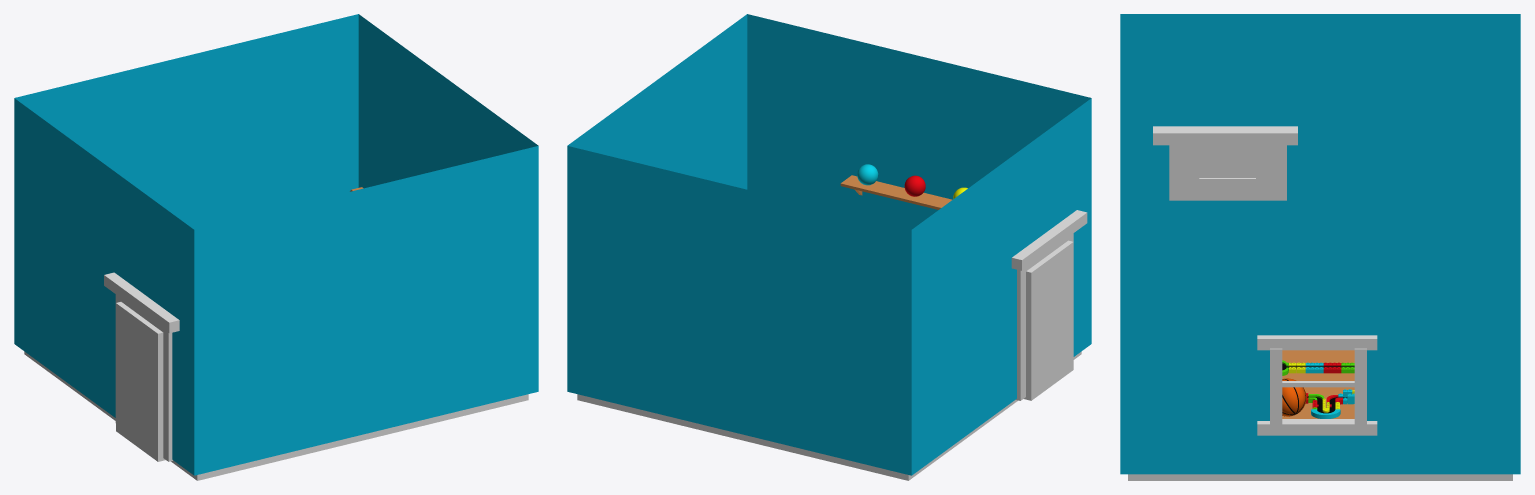
File: Track.fbx
The picture shows the model from 3 angles, left to right: view 1: azimuth 30°, elevation 25°; view 2: azimuth 150°, elevation 25°; view 3: azimuth 270°, elevation 25°; orthographic projection. The views are drawn at different scales.
Visible parts, largest first — view 1: Background; view 2: Background; view 3: Background, TrackWalls, BasketBall.
Boxes of the visible parts, x1,y1,x2,y2 form: Background: (14, 14, 538, 480); Background: (567, 14, 1091, 480); Background: (1120, 14, 1520, 480); TrackWalls: (1282, 360, 1354, 418); BasketBall: (1282, 378, 1306, 416).
Bounding box in the file's own units: 162639 × 112330 × 140114.
